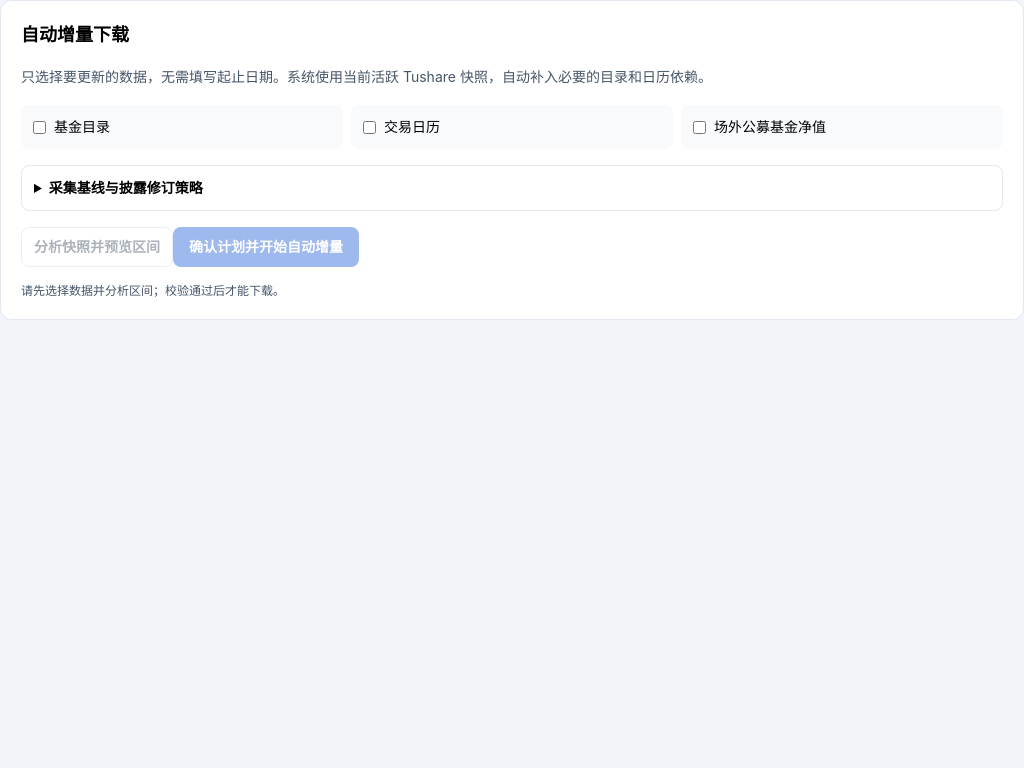
Test: 自动展开目录与日历依赖，不要求填写日期
Click the checkbox labelled "场外公募基金净值". click: (700, 128)
box: [693, 121, 706, 134]
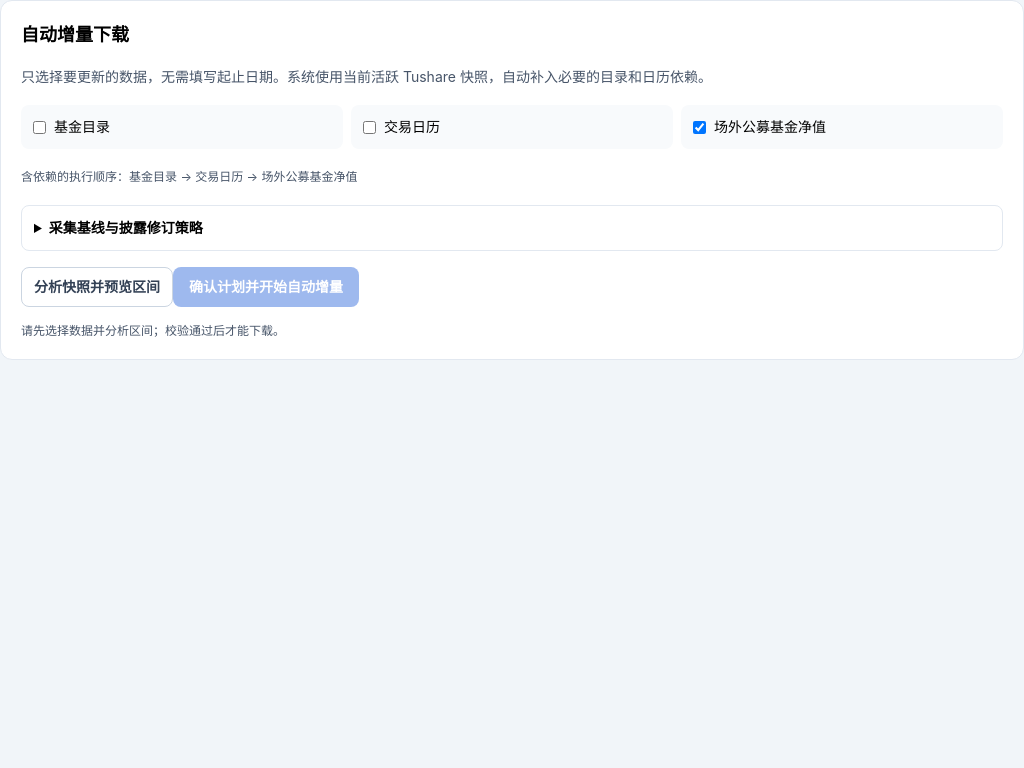
Click the button "分析快照并预览区间". click: (97, 287)
box: [21, 267, 173, 307]
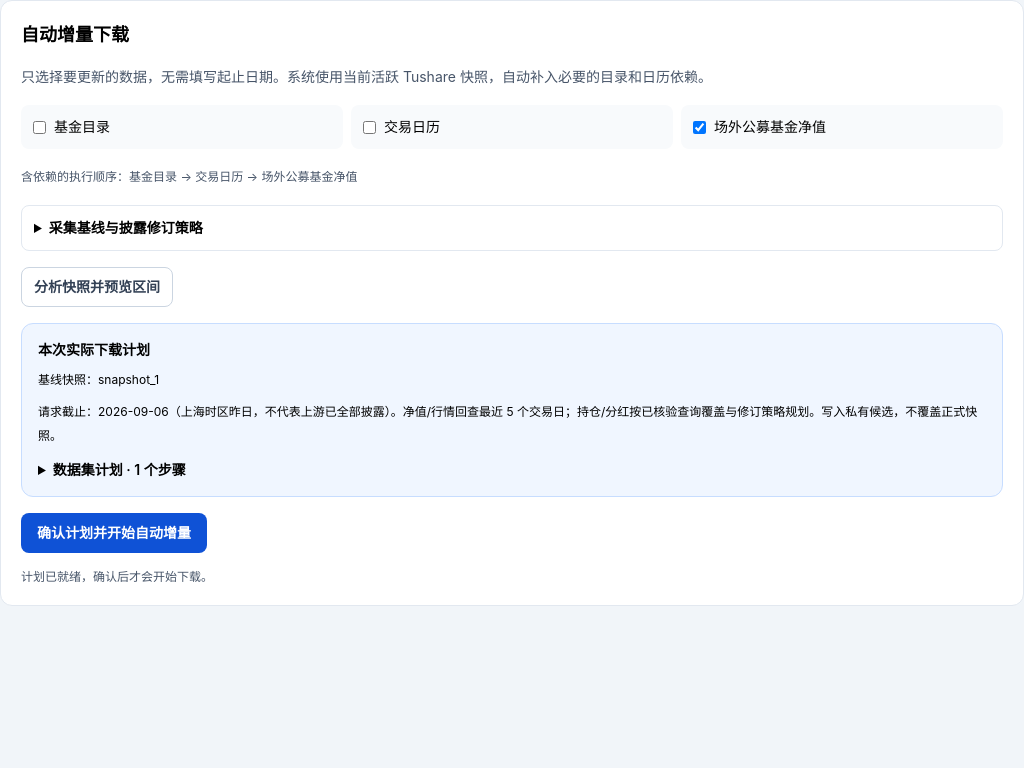
Check: the text "基线快照：snapshot_1" is shown, box [38, 372, 159, 387]
